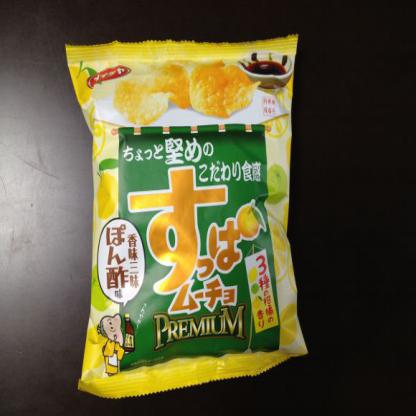potatochip: (61, 20, 309, 403)
